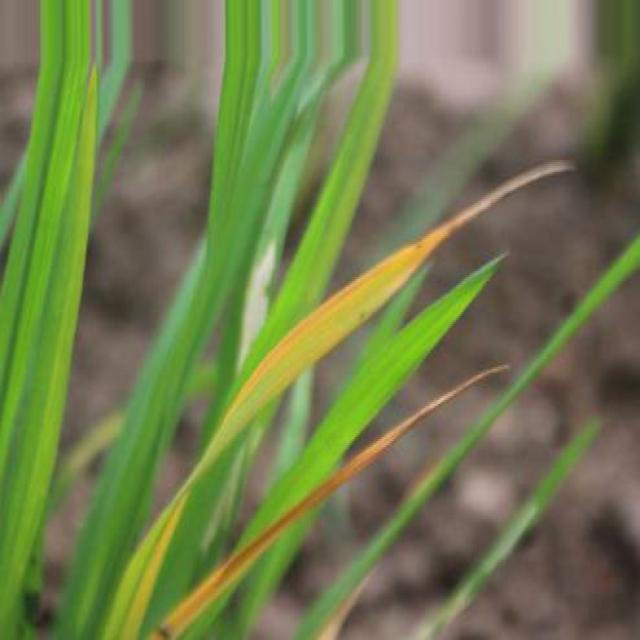Rice Tungro: (183, 162, 570, 489), (153, 366, 509, 637)
